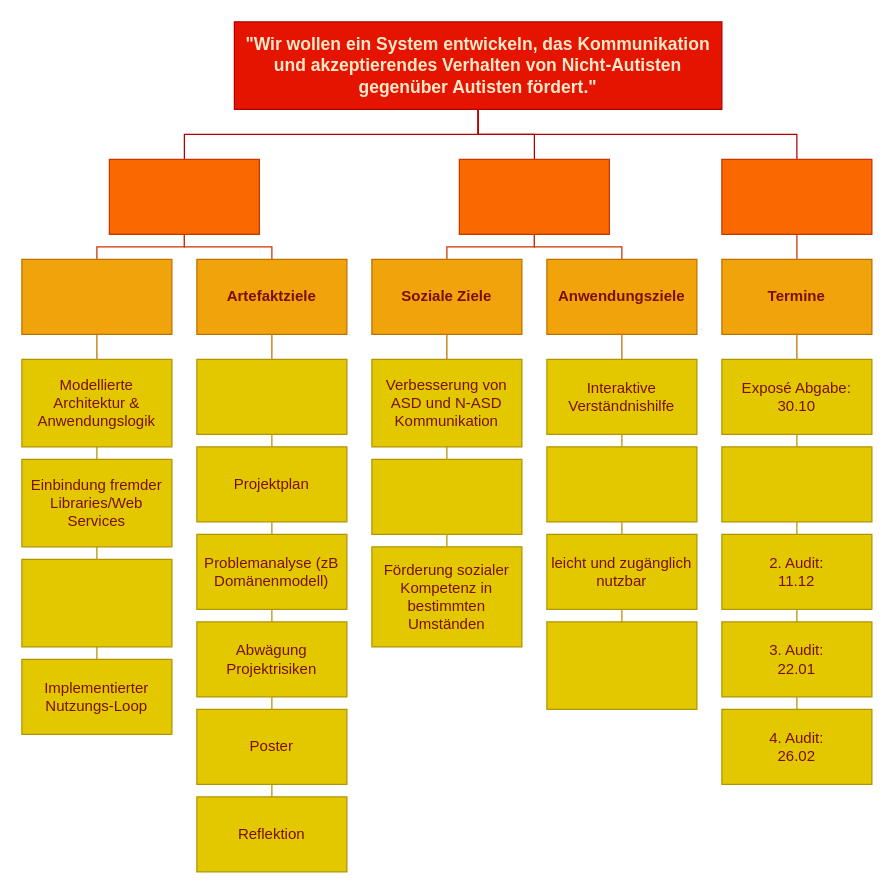
This 894x894 diagram has some shape labels left out. Here are the shapes that lost their labels. From the top down, the centre of each, then its label:
At (x=183, y=196): "Abgabeziele".
At (x=533, y=196): "Ergebnisziele".
At (x=796, y=196): "Vorgehensziele".
At (x=96, y=296): "Prototypsziele".
At (x=271, y=396): "Exposé & Projektüberblick".
At (x=446, y=496): "Vermehrte Autismus Akzeptanz".
At (x=621, y=484): "Einbindung autistischer Perspektiven".
At (x=796, y=484): "1. Audit: 13.11".
At (x=96, y=602): "Testbare UI (auch konsolenbasiert möglich)".
At (x=621, y=665): "Nutzung von Chatbots in sozialen Kontexten".
